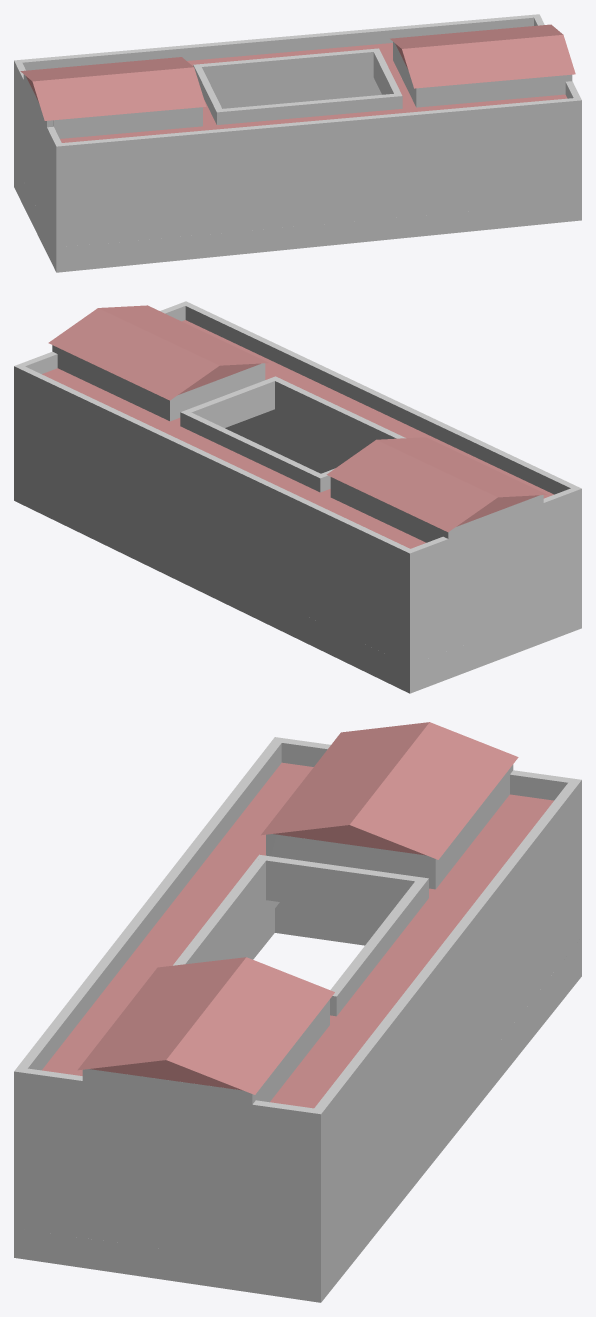
Rendered from LOD_Block_0_85.glb.
The picture shows the model from 3 angles, top to bottom: view 1: azimuth 30°, elevation 25°; view 2: azimuth 150°, elevation 25°; view 3: azimuth 270°, elevation 25°; orthographic projection. The views are drawn at different scales.
Parts seen in each view (by area): view 1: mesh_CityEngineMaterial_1270; view 2: mesh_CityEngineMaterial_1270; view 3: mesh_CityEngineMaterial_1270.
Boxes of the visible parts, <box> form: mesh_CityEngineMaterial_1270: <box>14,14,581,272</box>; mesh_CityEngineMaterial_1270: <box>14,301,581,693</box>; mesh_CityEngineMaterial_1270: <box>14,722,581,1302</box>.
Size of the model in its own units: 40.88 by 11.68 by 26.01.
